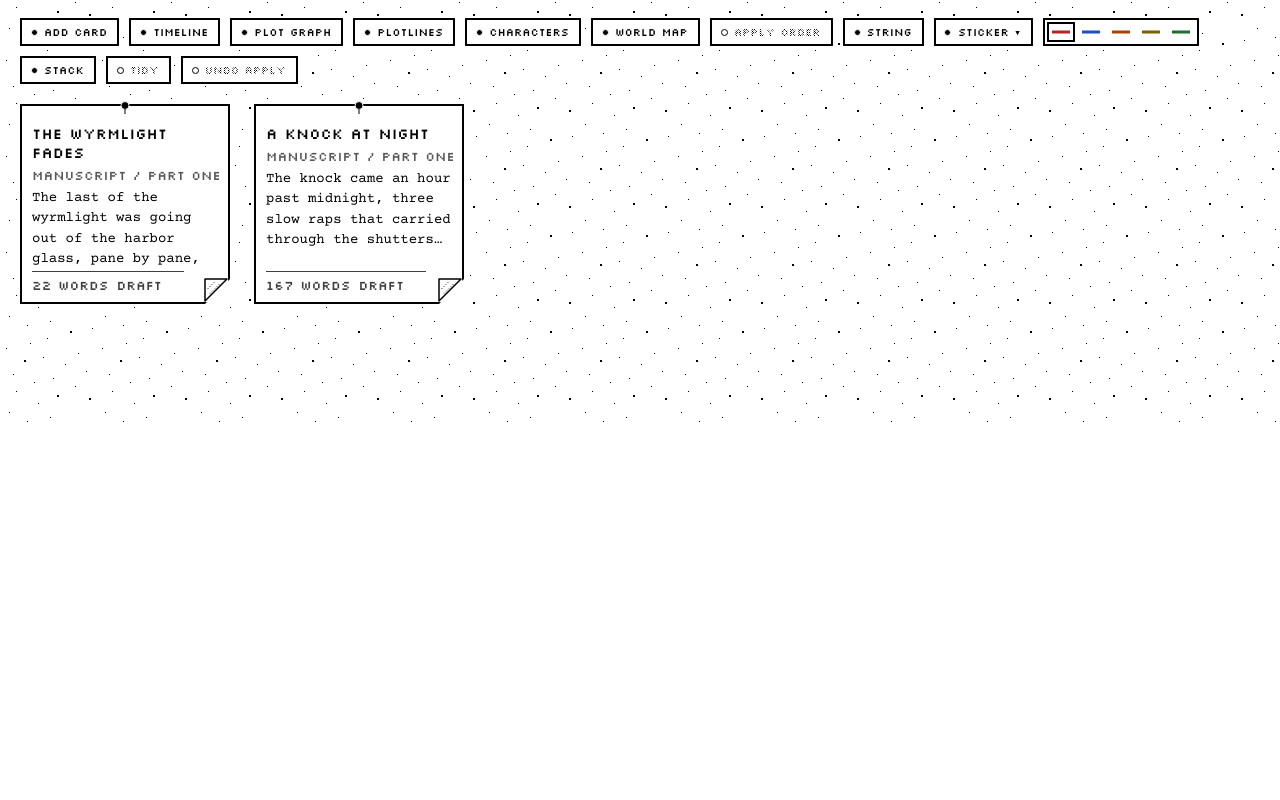
Test: stickers › closes the sheet on its own Esc, back to the button, staying on the board
The image size is (1280, 800).
Click the button with class "board-tool" showing "Sticker ▾" at (983,32), box [934, 18, 1033, 46]
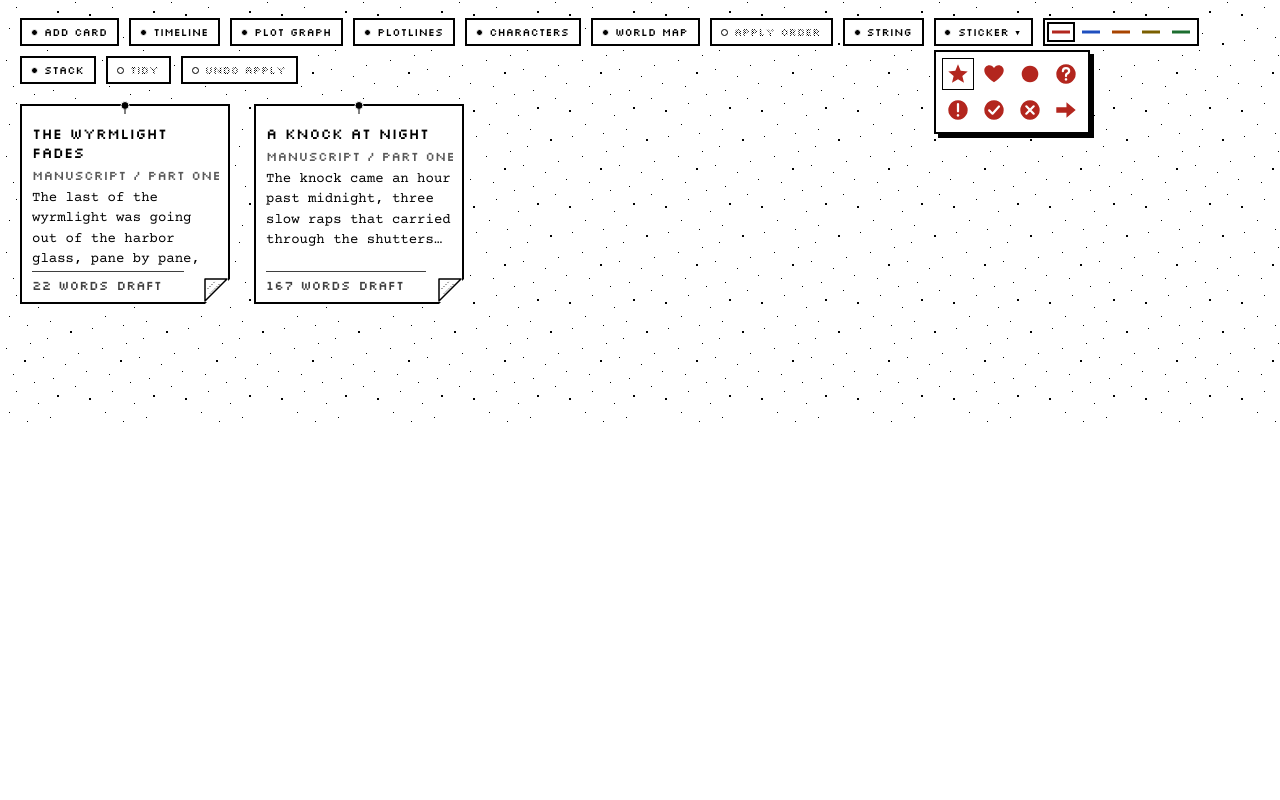
Press Escape in the dialog named "Stickers", box [934, 50, 1090, 134]
Press Escape
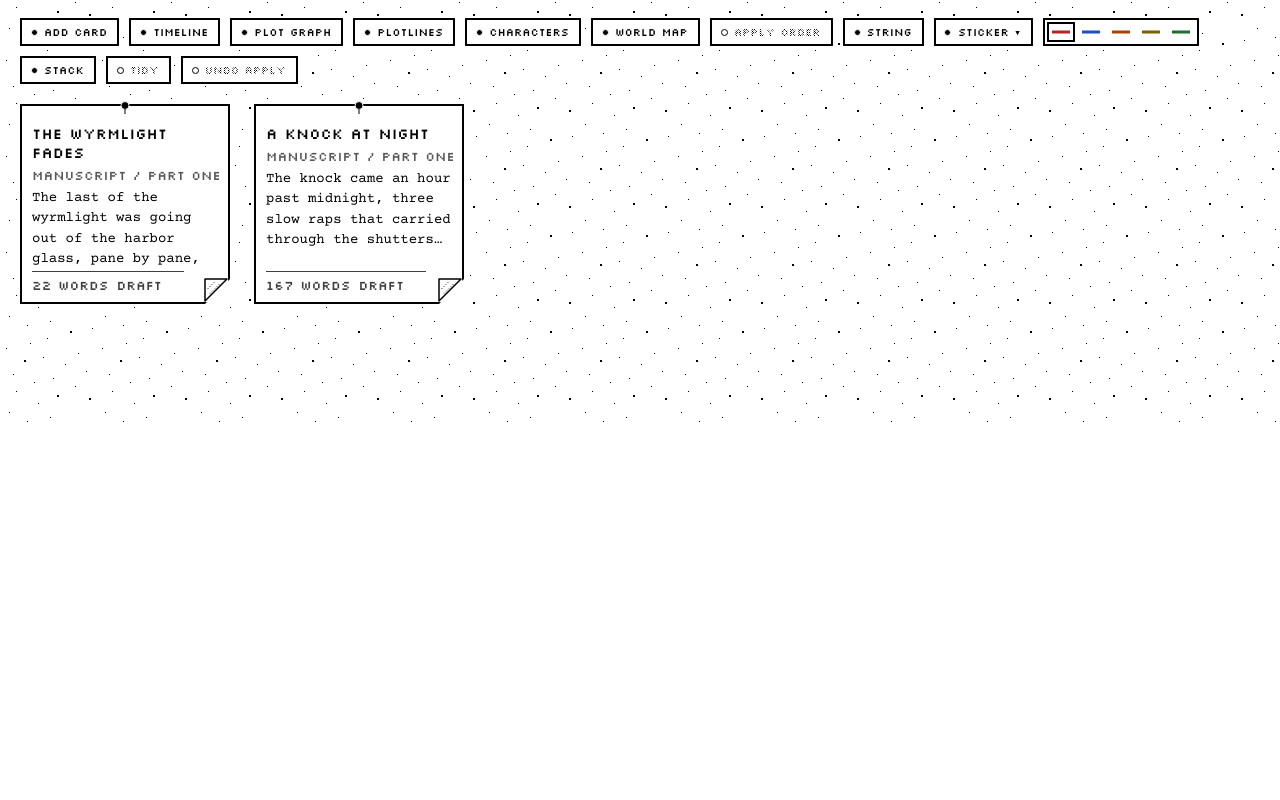
Check: the dialog "Stickers" is gone
